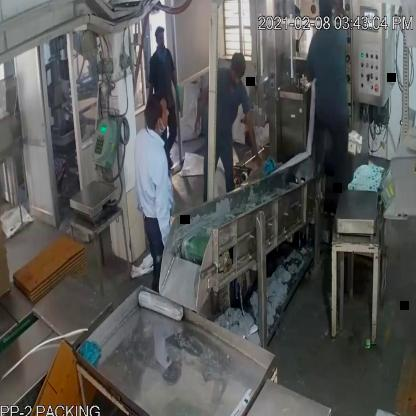no_glove: (154, 158, 174, 254), (240, 96, 262, 173)
